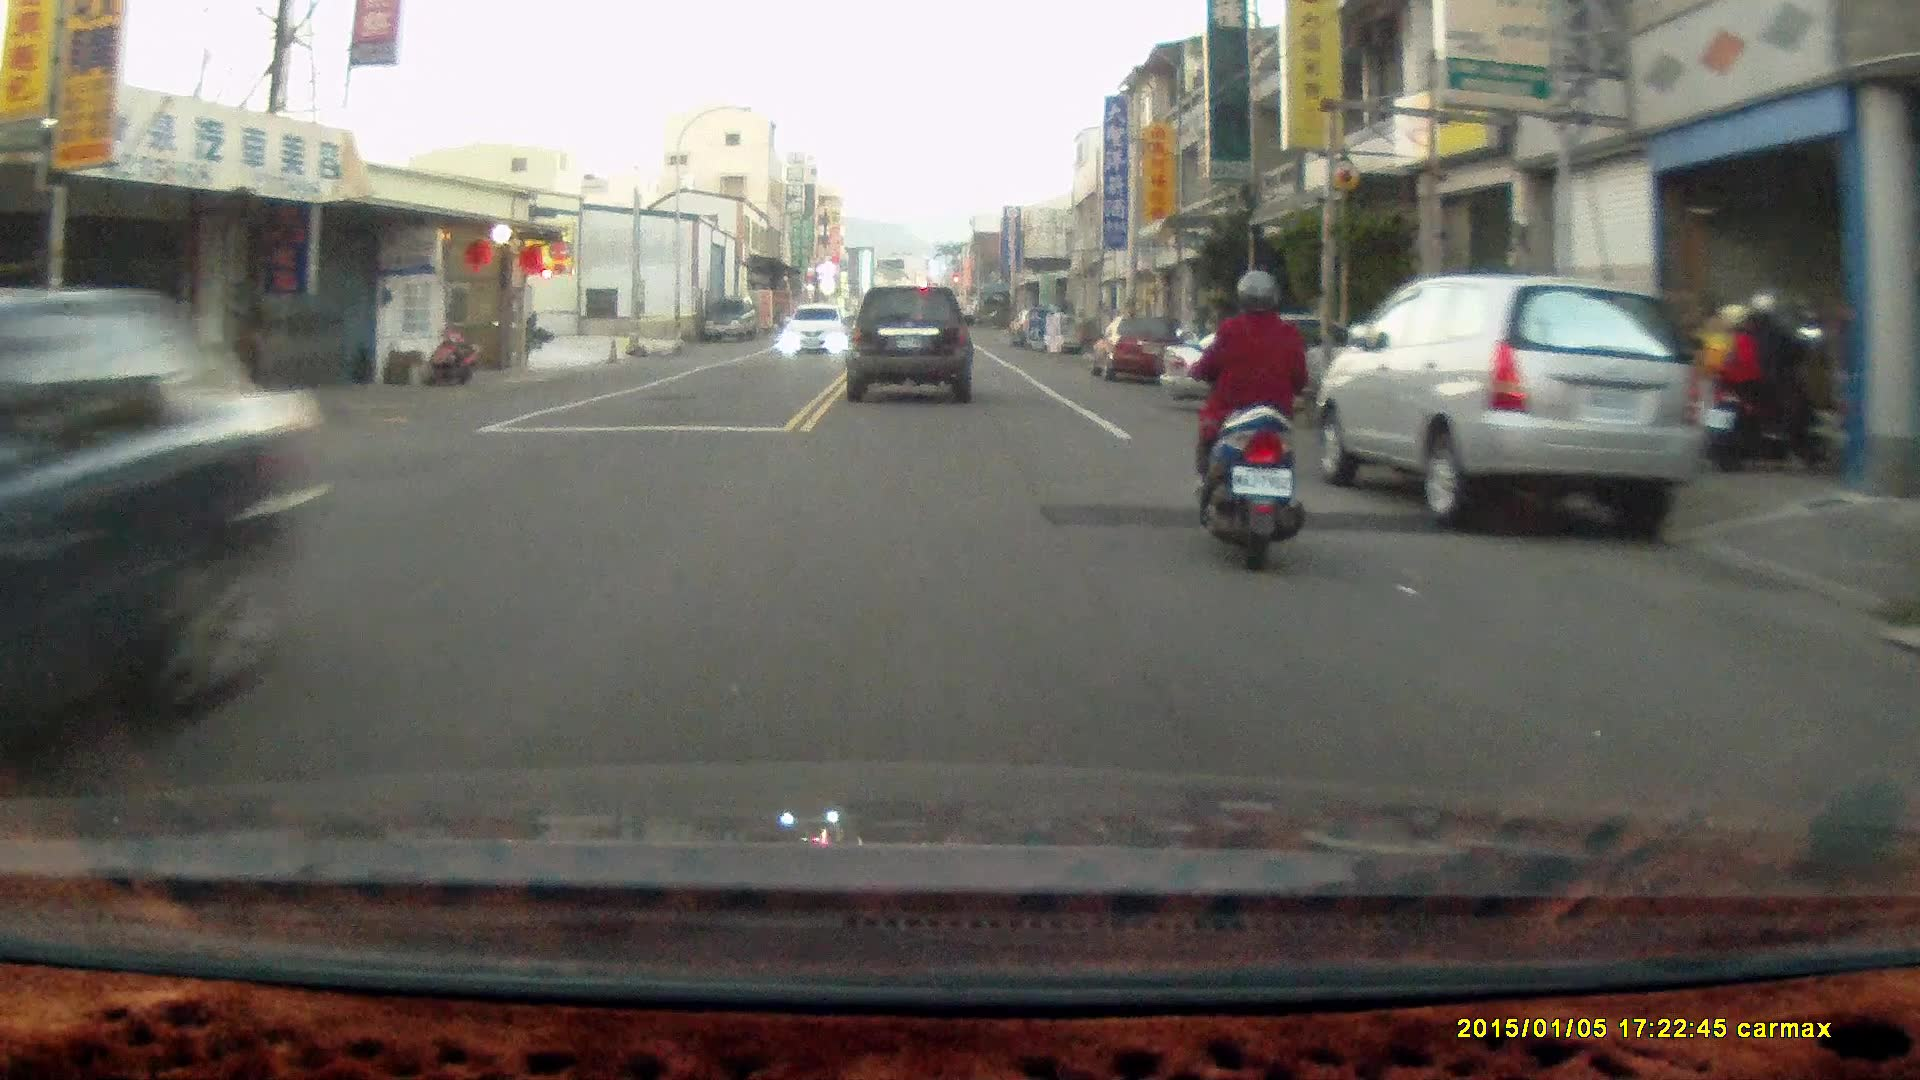rider: (1174, 261, 1308, 571), (1699, 291, 1830, 471)
vehicle: (1, 286, 328, 802), (1320, 271, 1710, 545), (1160, 312, 1372, 410), (847, 281, 977, 406), (1091, 313, 1184, 380), (781, 304, 846, 356)
